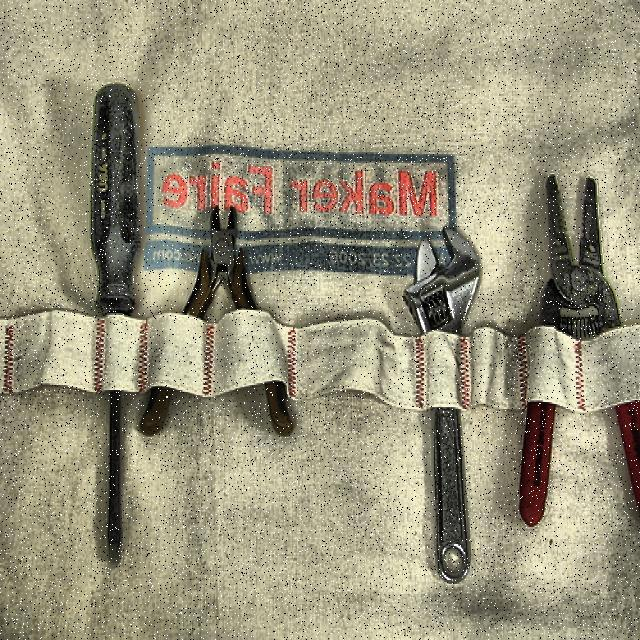screwdriver: (90, 83, 142, 562)
